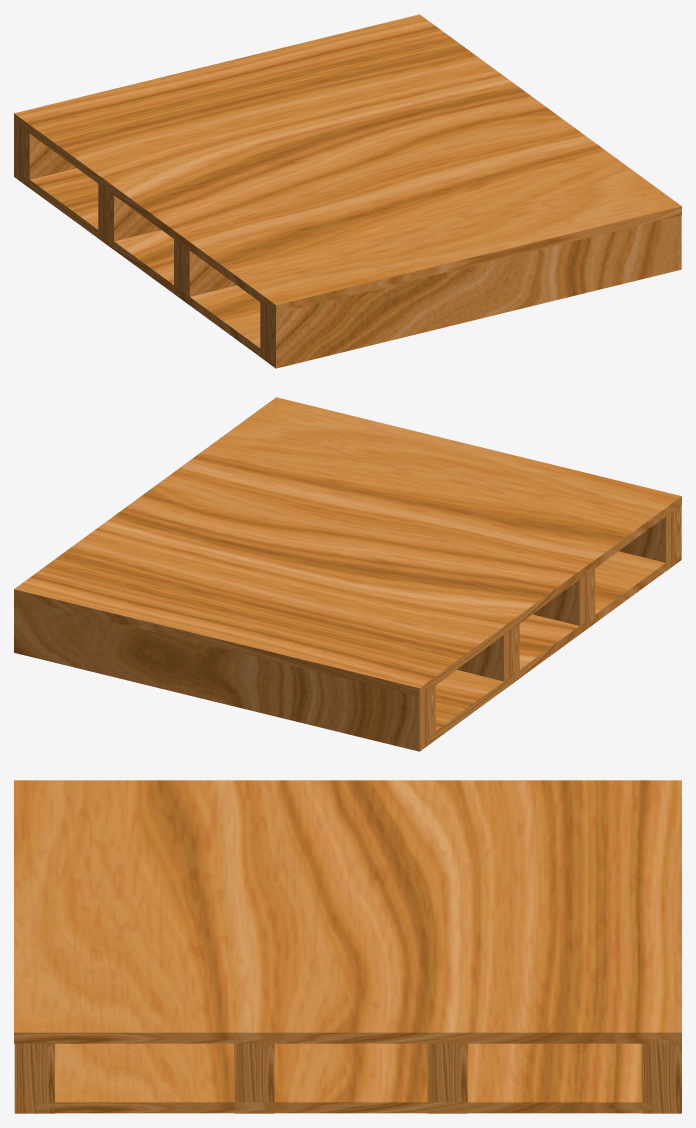
Rendered from palleteton.obj.
3 views of the same model, one above another, from view 1: azimuth 30°, elevation 25°; view 2: azimuth 150°, elevation 25°; view 3: azimuth 270°, elevation 25° (orthographic). The views are drawn at different scales.
Parts seen in each view (by area): view 1: Cube.005_Material.001; view 2: Cube.005_Material.001; view 3: Cube.005_Material.001.
Boxes of the visible parts, x1,y1,x2,y2 form: Cube.005_Material.001: (14,14,681,368); Cube.005_Material.001: (14,397,681,751); Cube.005_Material.001: (14,780,681,1113).
Bounding box in the file's own units: 1.01 × 0.1517 × 1.13.
Materials: 1 (1 with a texture image).
